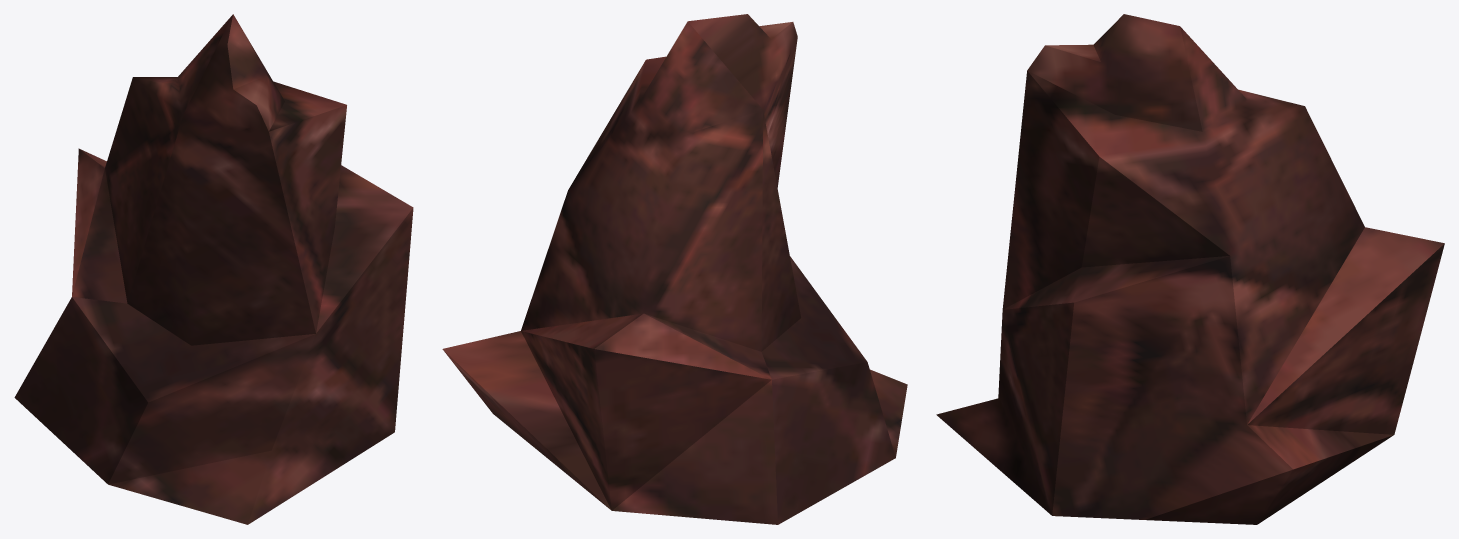
Rendered from stalacmite_small01.fbx.
3 renders of one model, left to right at view 1: azimuth 30°, elevation 25°; view 2: azimuth 150°, elevation 25°; view 3: azimuth 270°, elevation 25°, orthographic. The views are drawn at different scales.
Visible parts, largest first — view 1: 09_-_Default; view 2: 09_-_Default; view 3: 09_-_Default.
Boxes of the visible parts, x1=… form: 09_-_Default: x1=14, y1=14, x2=413, y2=524; 09_-_Default: x1=442, y1=14, x2=907, y2=524; 09_-_Default: x1=936, y1=14, x2=1444, y2=524.
Bounding box in the file's own units: 1.37 × 1.54 × 1.62.
